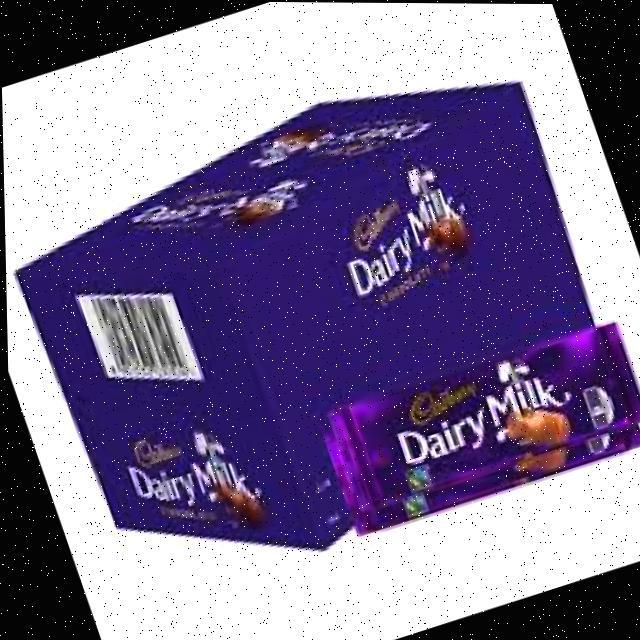cadbury_chocolate: (337, 322, 620, 538)
